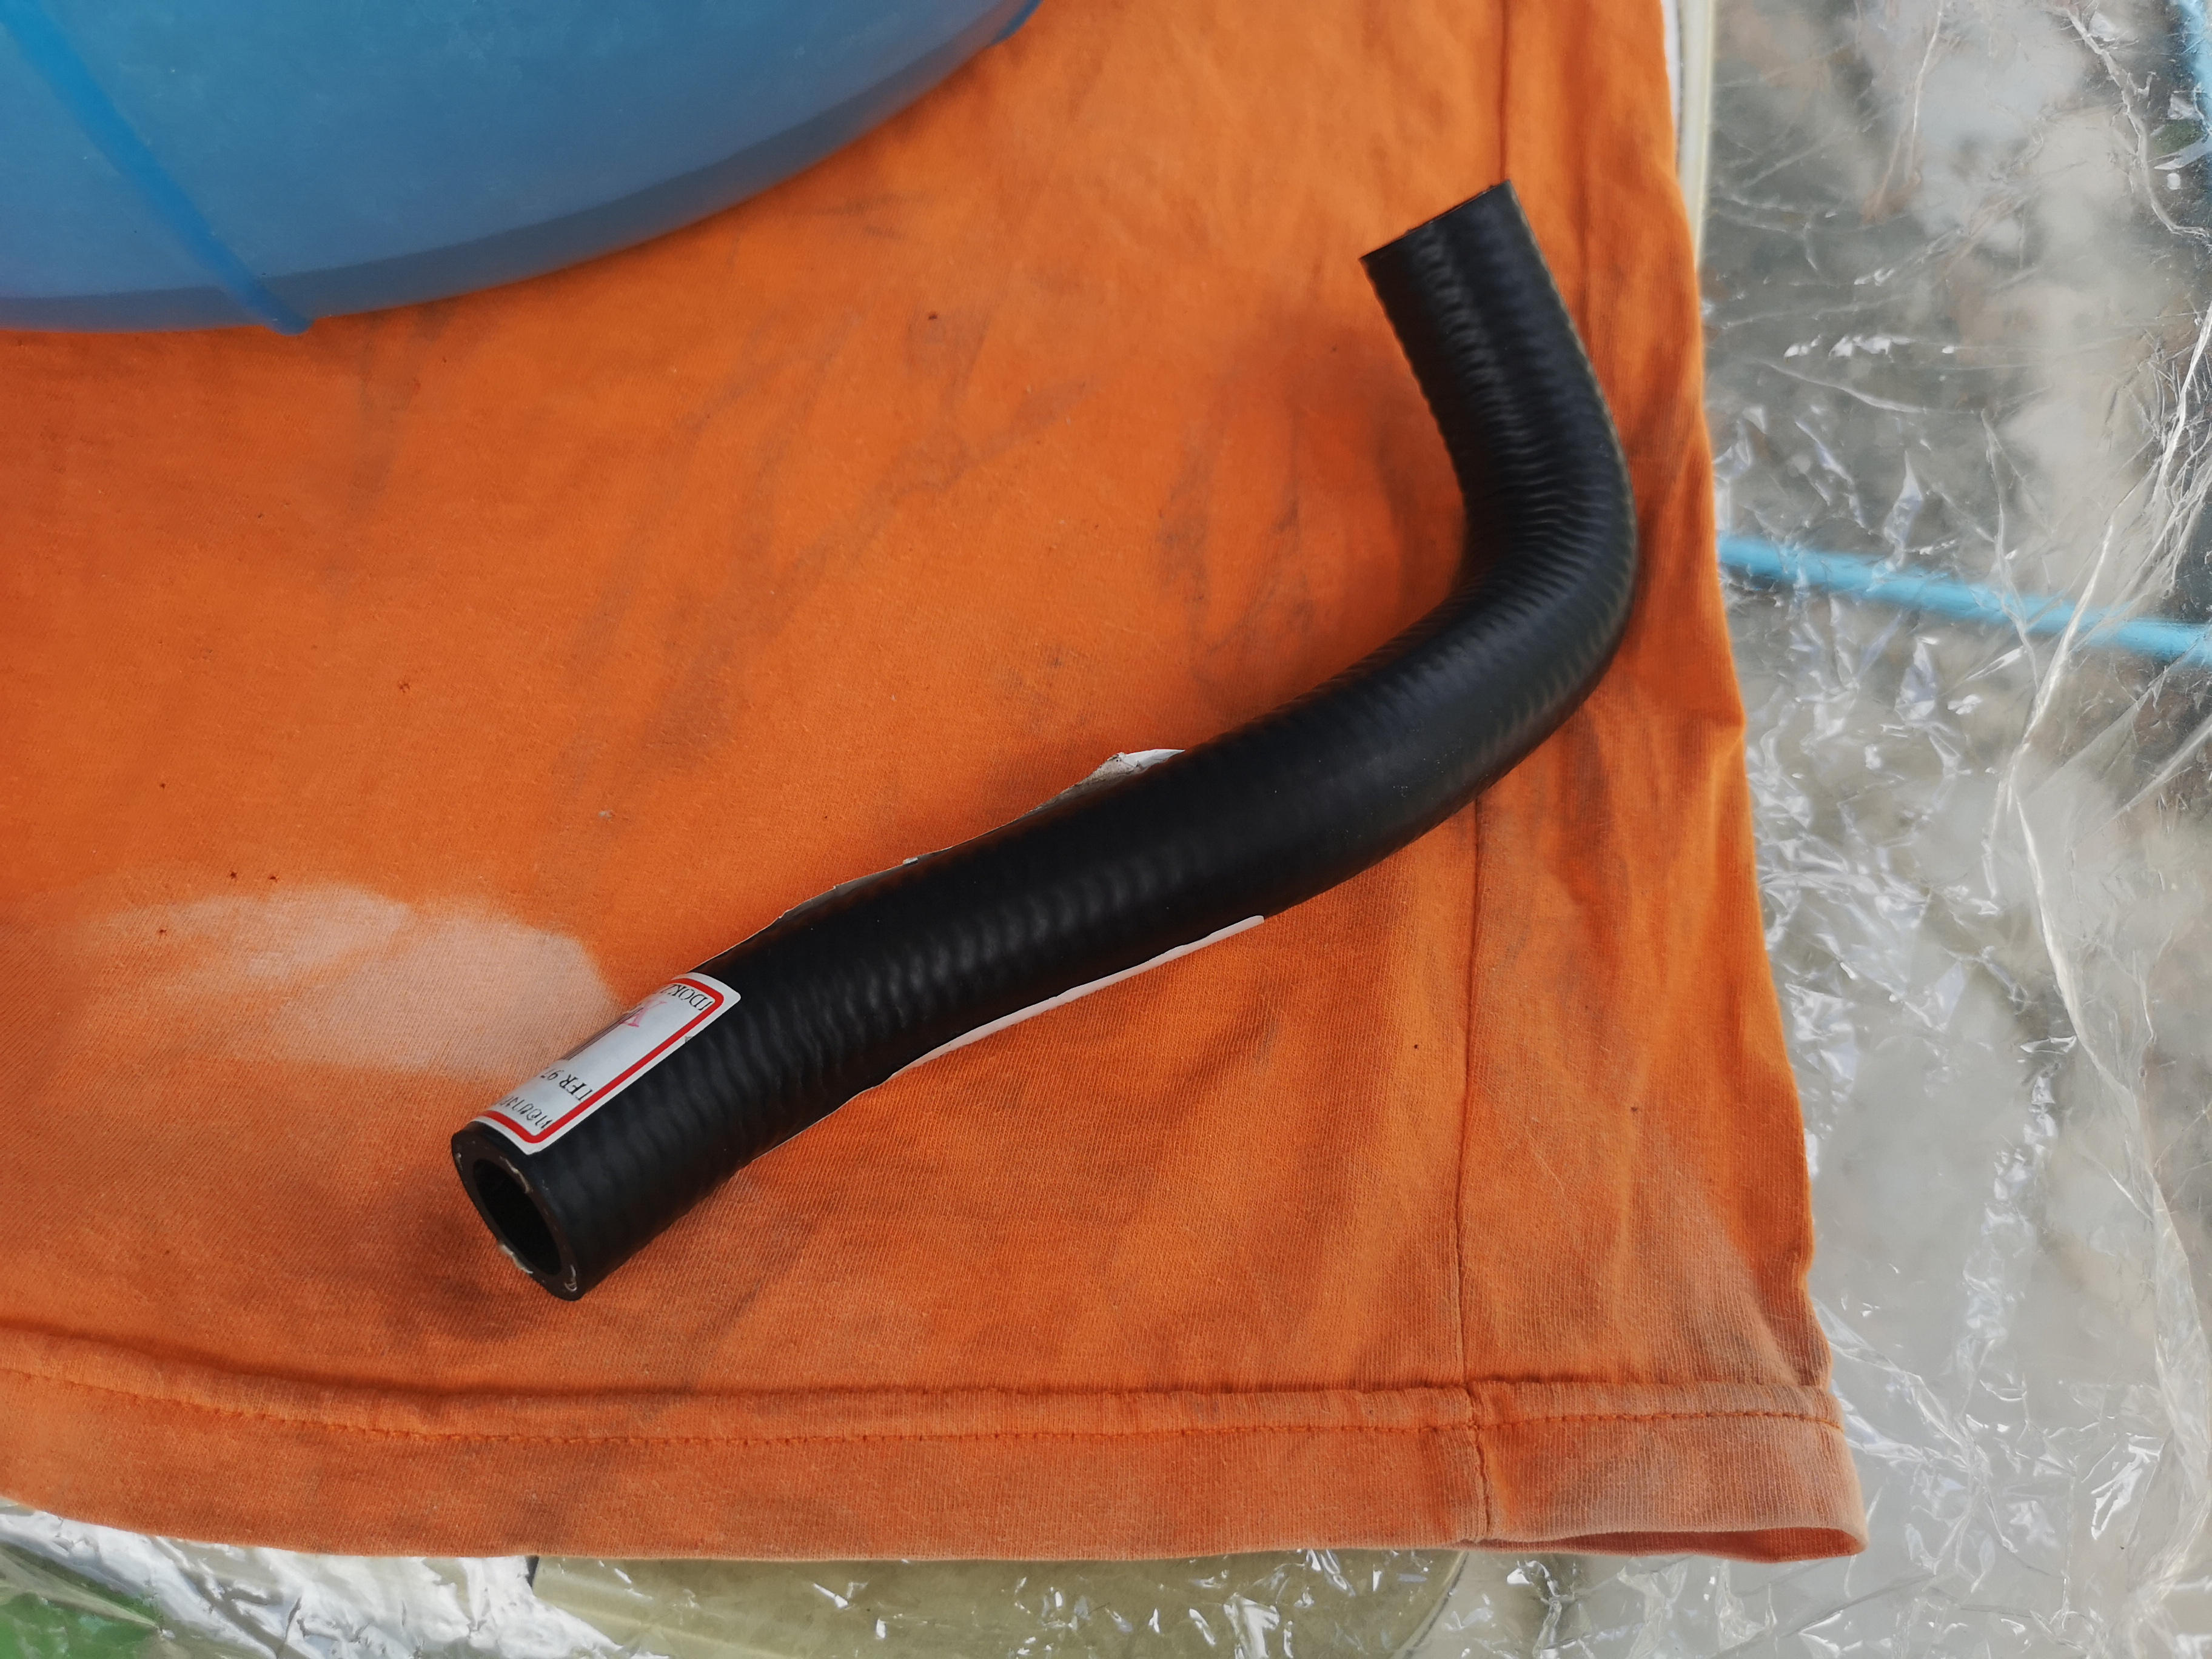ท่อยางน้ำมันเลี้ยงเทอร์โบ: (369, 162, 1703, 1314)
